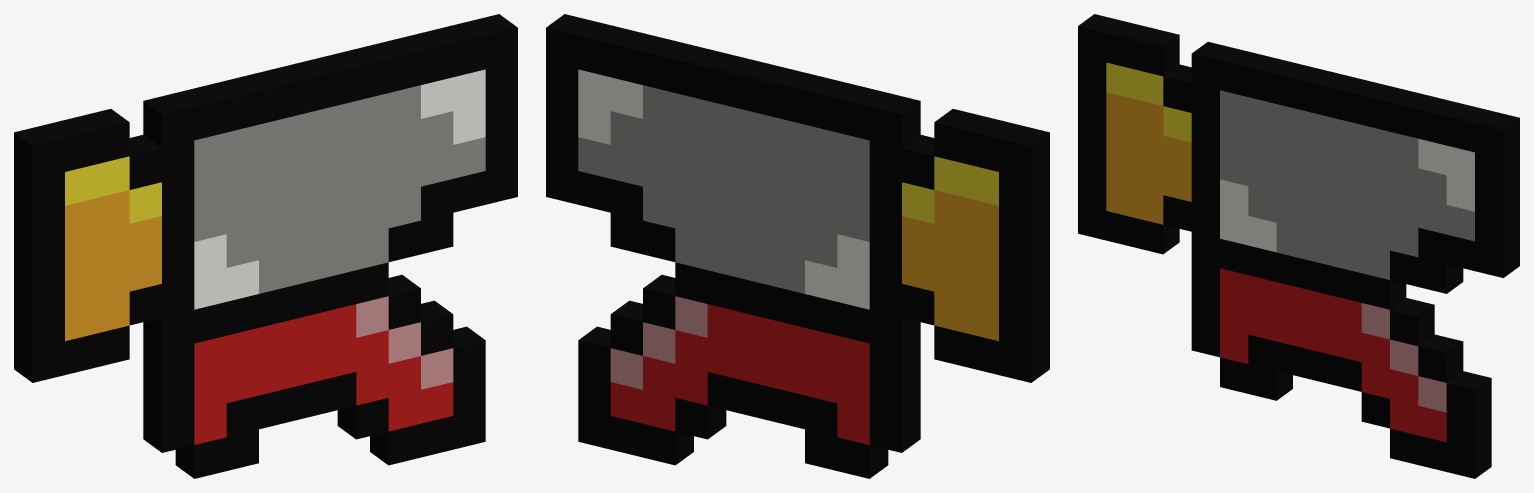
The model's file is Light Gray Heavy Paintball Gun.glb.
3 views of the same model, side by side, from view 1: azimuth 30°, elevation 25°; view 2: azimuth 150°, elevation 25°; view 3: azimuth 330°, elevation 25° (orthographic). The views are drawn at different scales.
Visible parts, largest first — view 1: generated(Clone); view 2: generated(Clone); view 3: generated(Clone).
Boxes of the visible parts, x1,y1,x2,y2 form: generated(Clone): (14, 14, 517, 478); generated(Clone): (546, 14, 1049, 478); generated(Clone): (1078, 14, 1519, 478).
Bounding box in the file's own units: 15 × 12 × 0.9998.
Materials: 1 (1 with a texture image).
